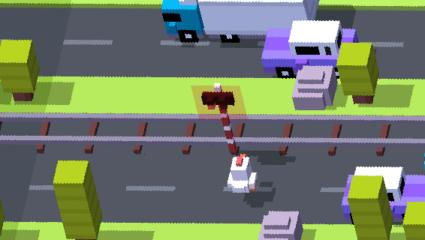hen: (227, 153, 258, 194)
obstacle: (161, 0, 319, 46), (261, 20, 362, 79), (341, 166, 425, 223), (53, 160, 104, 240), (348, 175, 392, 240), (336, 43, 380, 105), (0, 40, 40, 102), (294, 65, 337, 111), (257, 210, 305, 240), (402, 202, 425, 240), (0, 202, 5, 238)
